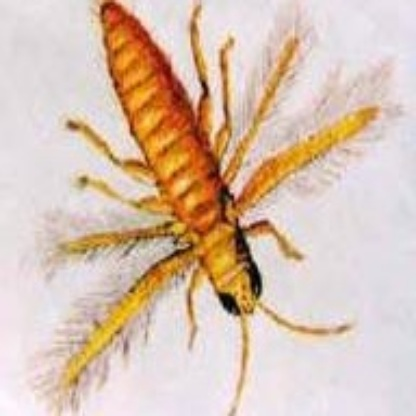Thrips: (48, 9, 385, 369)
